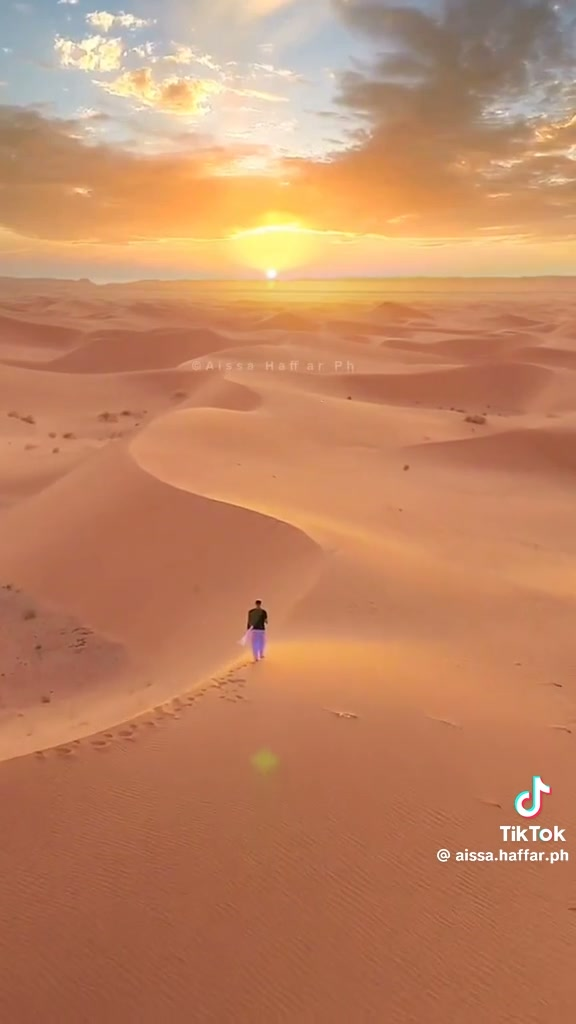human_footprint: (42, 674, 261, 765)
